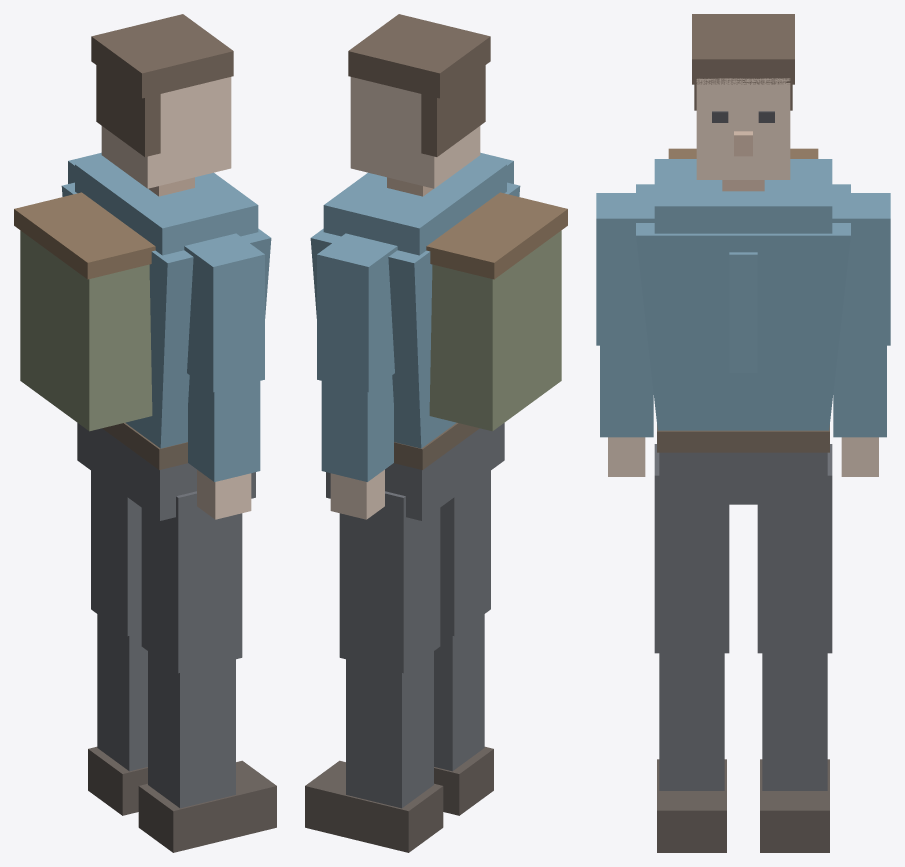
File: char_player.glb
3 renders of one model, left to right at view 1: azimuth 30°, elevation 25°; view 2: azimuth 150°, elevation 25°; view 3: azimuth 270°, elevation 25°, orthographic.
Parts seen in each view (by area): view 1: torso, leg_r, head, arm_r, leg_l, hips; view 2: torso, leg_l, head, arm_l, leg_r, hips; view 3: torso, leg_l, leg_r, head, arm_l, arm_r, hips.
Part boxes in pixels (x1,y1,x2,y2): torso: (14, 157, 271, 448); leg_r: (138, 491, 276, 852); head: (91, 14, 233, 188); arm_r: (184, 233, 264, 519); leg_l: (88, 470, 147, 815); hips: (77, 423, 255, 520); torso: (310, 157, 567, 448); leg_l: (305, 491, 443, 852); head: (348, 14, 490, 188); arm_l: (317, 233, 397, 519); leg_r: (434, 470, 493, 815); hips: (326, 423, 504, 520); torso: (636, 148, 850, 430); leg_l: (757, 444, 832, 852); leg_r: (654, 444, 729, 852); head: (692, 14, 794, 179); arm_l: (832, 193, 890, 476); arm_r: (596, 193, 654, 476); hips: (657, 425, 829, 504).
Bounding box in the file's own units: 0.46 × 1.84 × 0.63.
